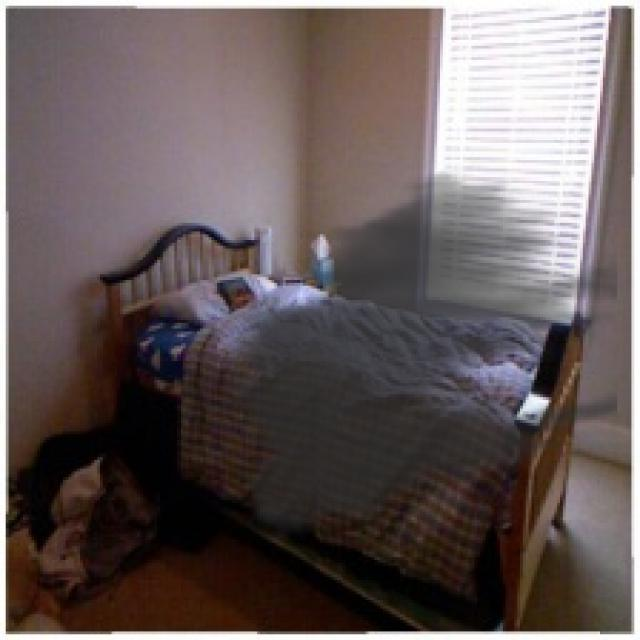Smoke: (212, 160, 617, 554)
